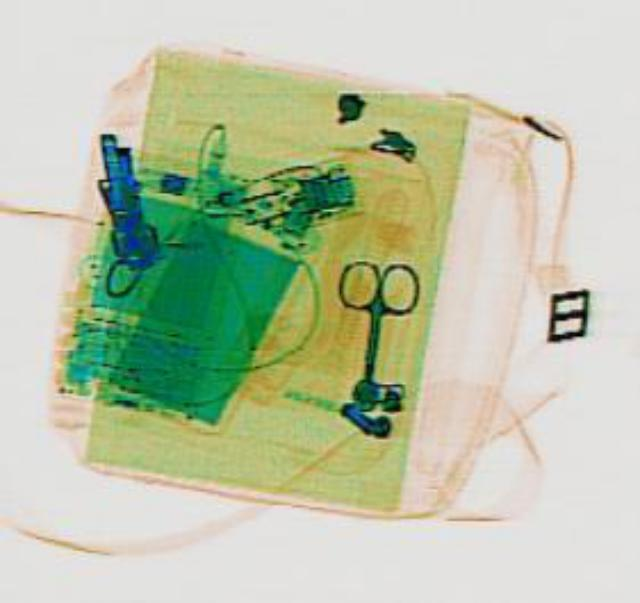Scissors: (316, 253, 420, 388)
